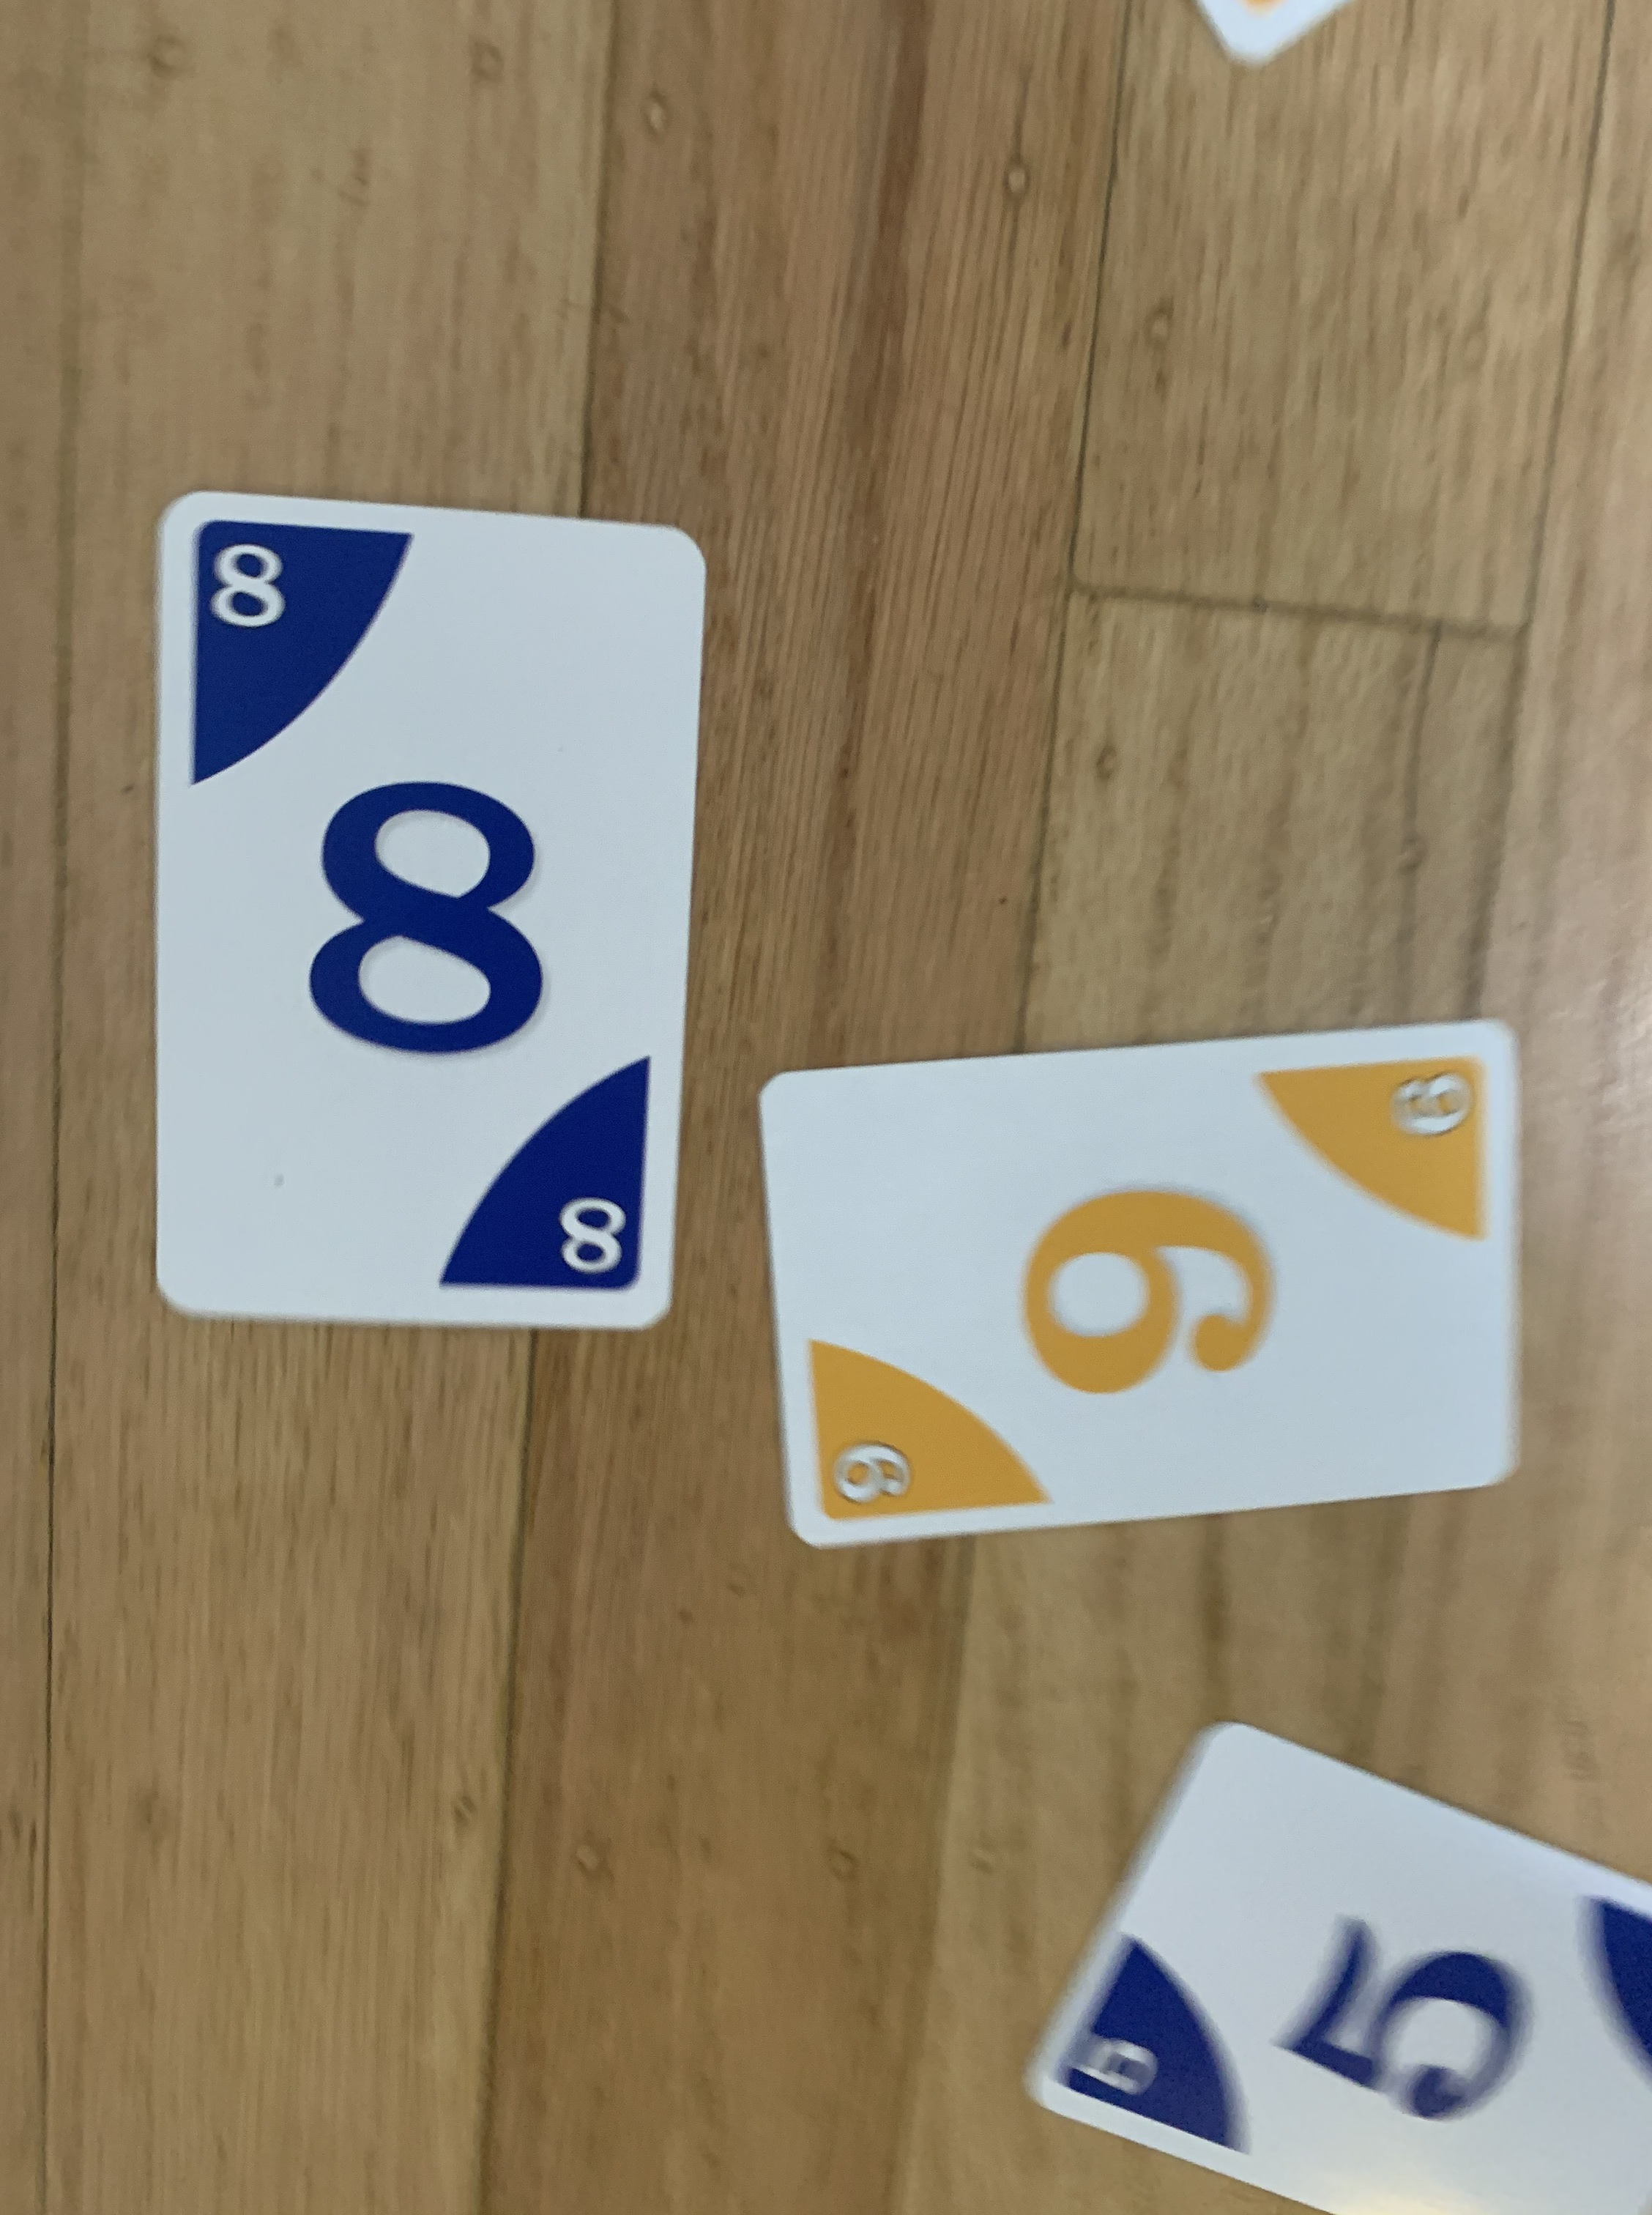eight: (147, 483, 713, 1335)
five: (1019, 1720, 1652, 2212)
nine: (758, 1007, 1531, 1562)
